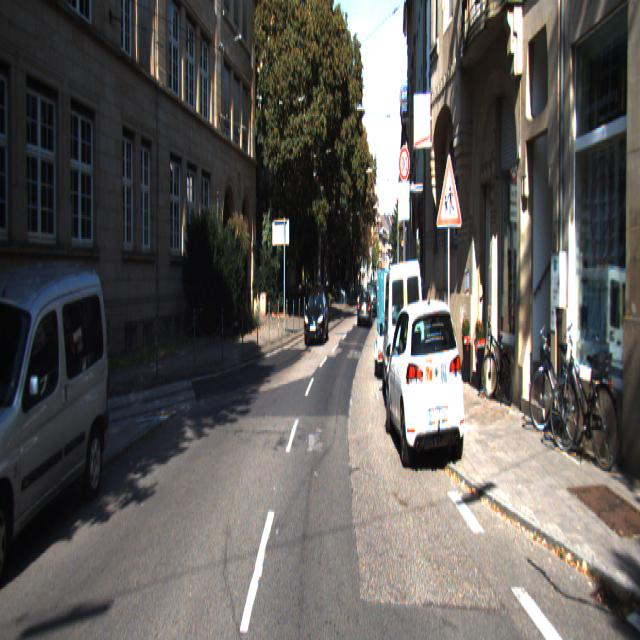Car: (0, 257, 116, 608), (384, 291, 467, 479), (380, 255, 427, 423), (303, 286, 329, 345), (357, 289, 373, 331)
